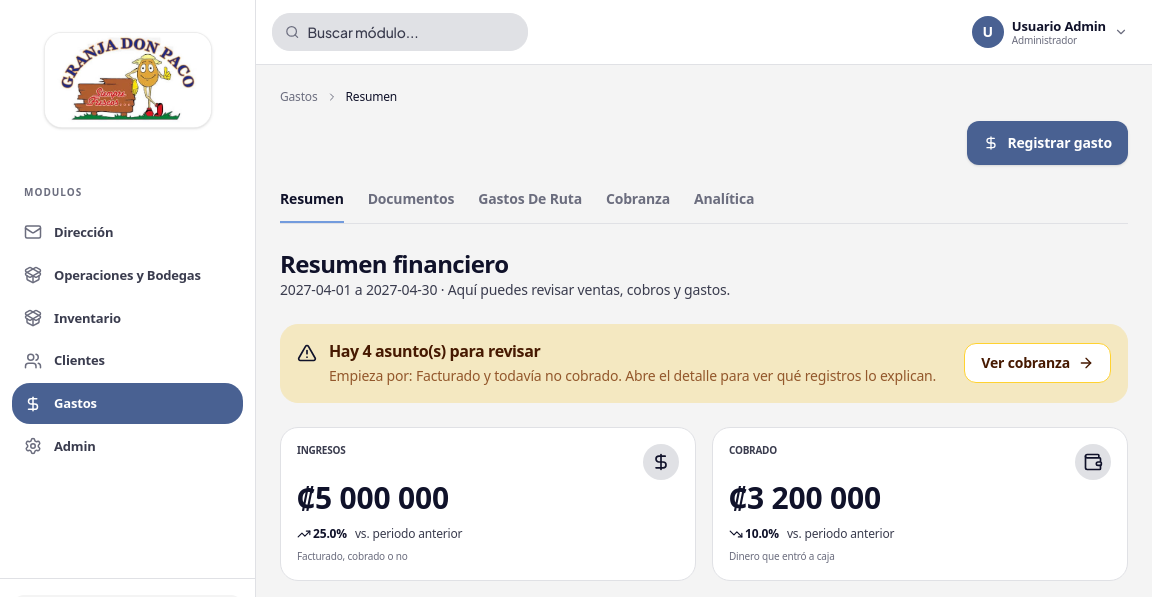
Test: lo que aportaba el Centro de Mando vive en Resumen › si el endpoint de operación falla, Resumen sigue mostrando el dinero
Step 1. Click the button "Gastos" below "Modulos" → coordinates (128, 404), box [12, 383, 243, 424]
(page scrolled)
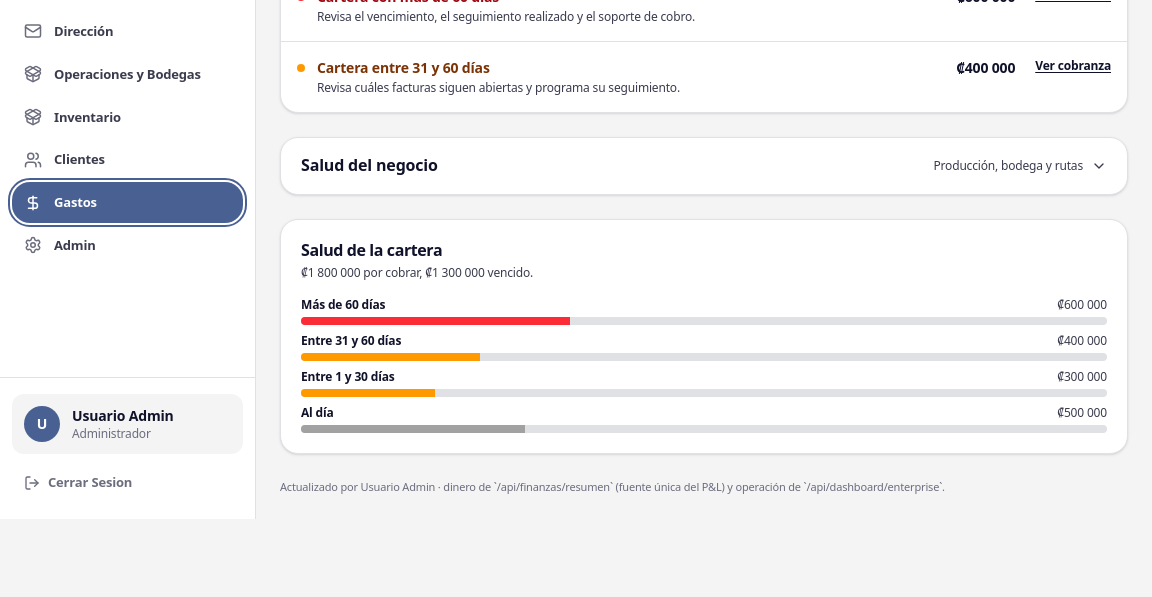
Expected: the list with test id "finanzas-aging" is shown, [301, 297, 1107, 433]
